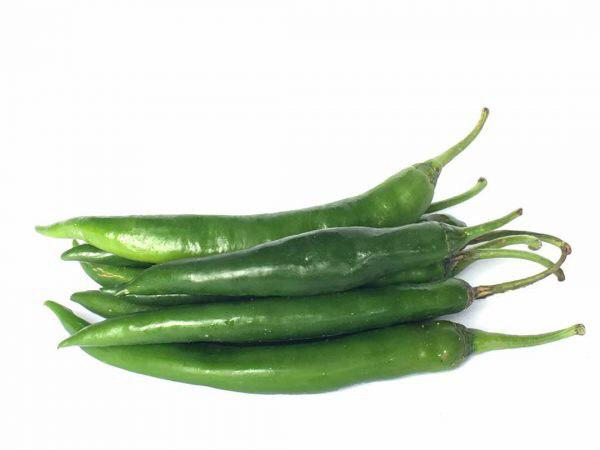lada hijau: (35, 145, 459, 268), (40, 294, 476, 400), (45, 274, 485, 358), (111, 219, 471, 308)
